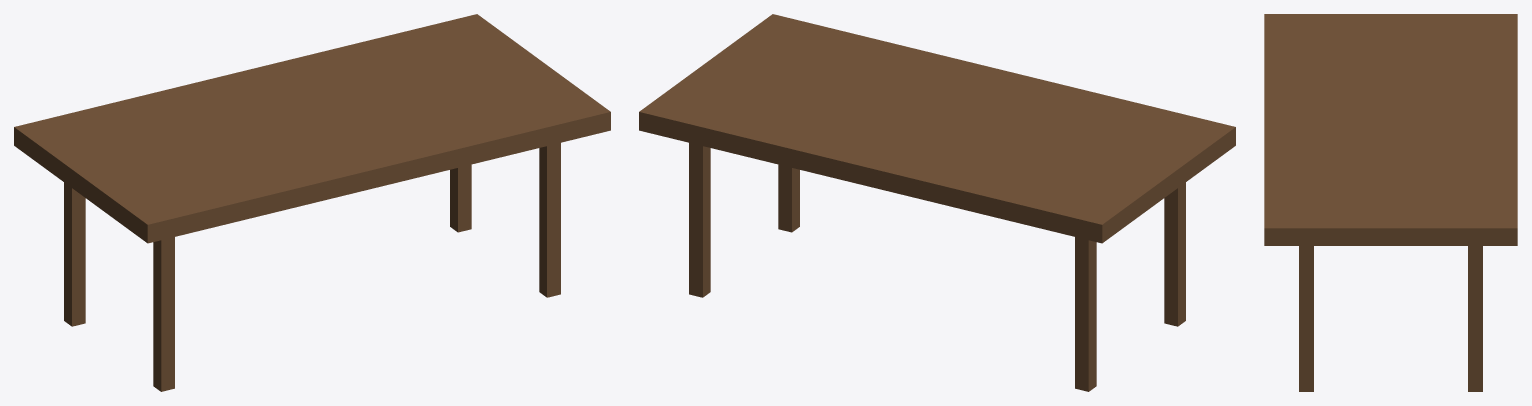
File: Table.fbx
3 renders of one model, left to right at view 1: azimuth 30°, elevation 25°; view 2: azimuth 150°, elevation 25°; view 3: azimuth 270°, elevation 25°, orthographic. The views are drawn at different scales.
Parts seen in each view (by area): view 1: table; view 2: table; view 3: table.
Boxes of the visible parts, x1,y1,x2,y2 form: table: (14,14,610,391); table: (639,14,1235,391); table: (1264,14,1517,391).
Bounding box in the file's own units: 48 × 18.65 × 24.
